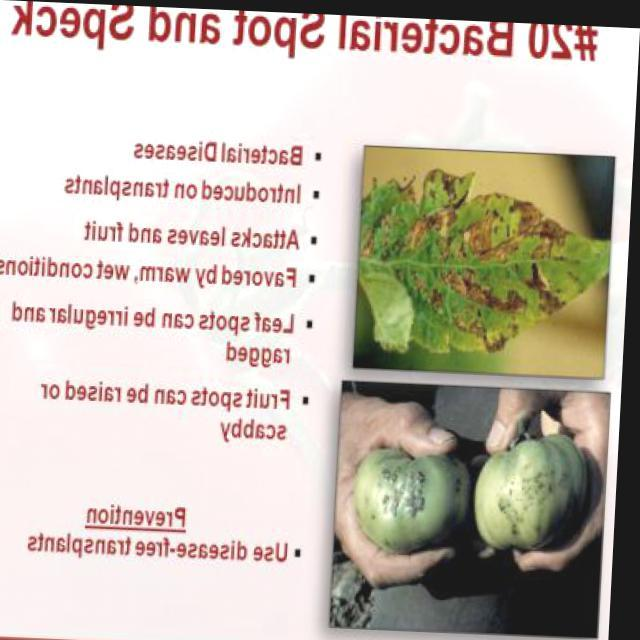Tomato late blight leaf: (356, 162, 614, 362)
